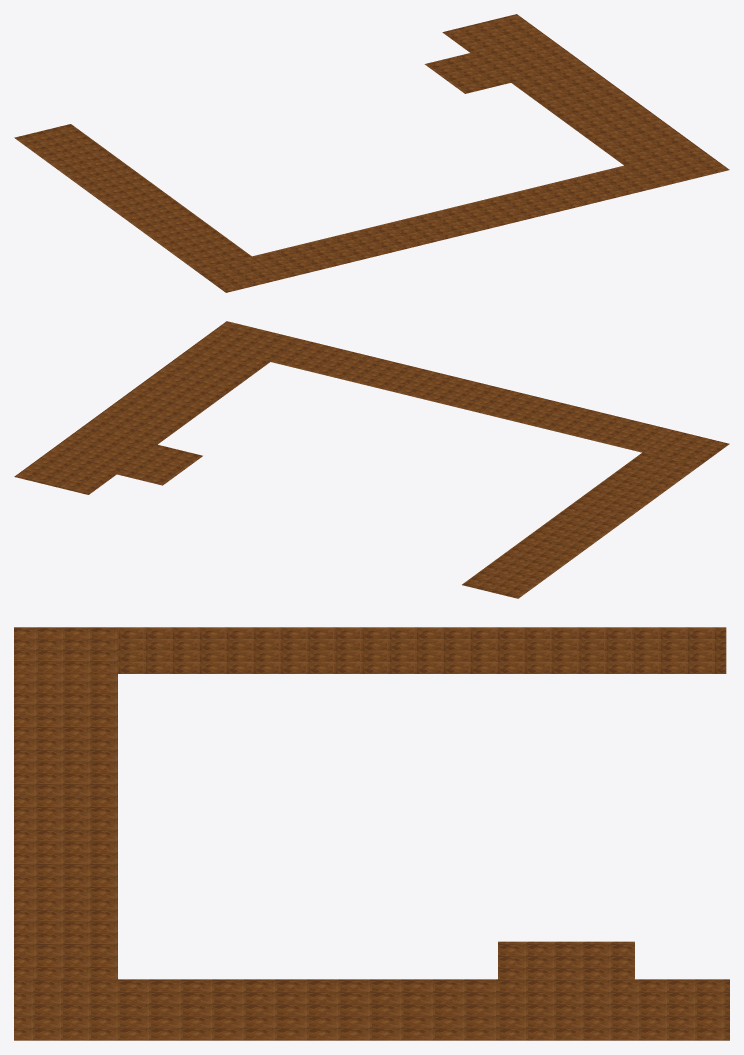
Rendered from GreatroomFloorbit.fbx.
3 views of the same model, one above another, from view 1: azimuth 30°, elevation 25°; view 2: azimuth 150°, elevation 25°; view 3: azimuth 270°, elevation 25° (orthographic). The views are drawn at different scales.
Visible parts, largest first — view 1: FloorPiece; view 2: FloorPiece; view 3: FloorPiece.
Boxes of the visible parts, x1,y1,x2,y2 form: FloorPiece: [14, 14, 729, 292]; FloorPiece: [14, 321, 729, 598]; FloorPiece: [14, 627, 729, 1040].
Size of the model in its own units: 767 by 9.16e-05 by 562.
